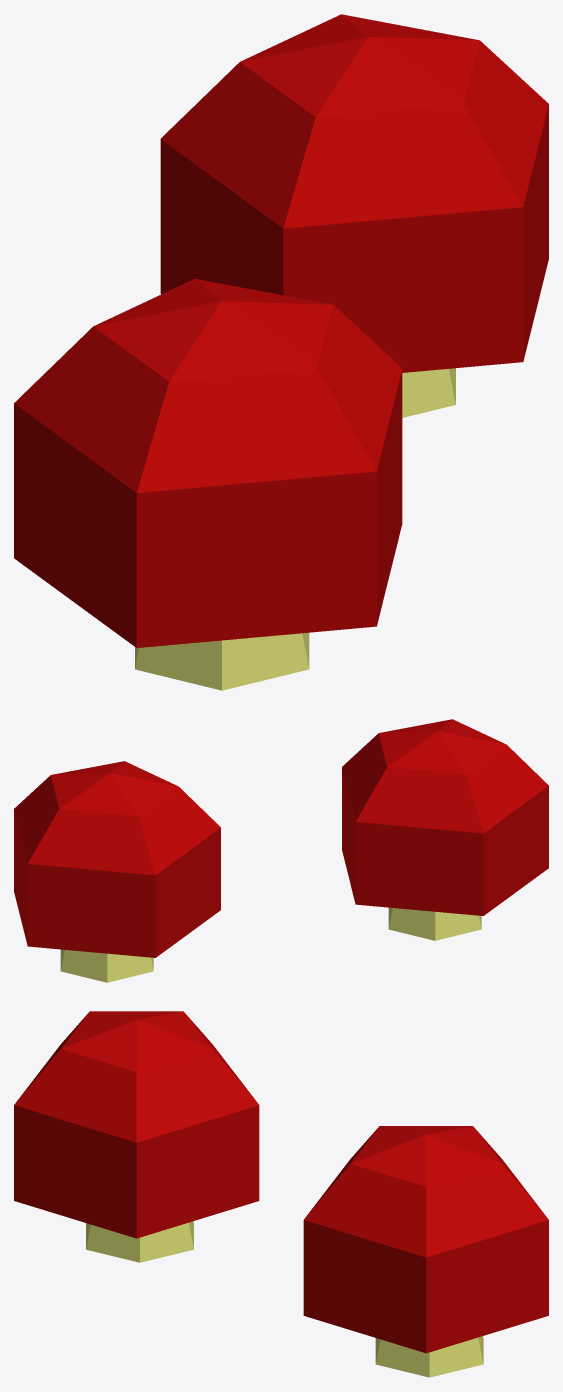
Rendered from mushroom.fbx.
The picture shows the model from 3 angles, top to bottom: view 1: azimuth 30°, elevation 25°; view 2: azimuth 150°, elevation 25°; view 3: azimuth 270°, elevation 25°; orthographic projection. The views are drawn at different scales.
Parts seen in each view (by area): view 1: polySurface4; view 2: polySurface4; view 3: polySurface4.
Boxes of the visible parts, x1,y1,x2,y2 form: polySurface4: [14, 14, 548, 690]; polySurface4: [14, 719, 548, 982]; polySurface4: [14, 1011, 548, 1377].
Size of the model in its own units: 14.54 by 6.86 by 15.4.
